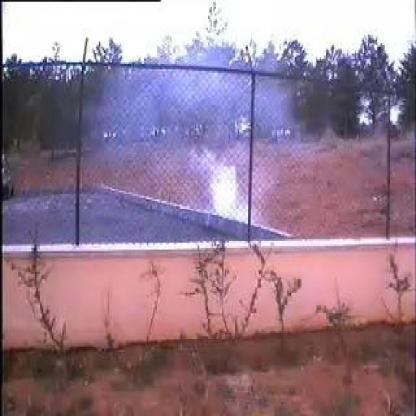-: (114, 82, 268, 220)
